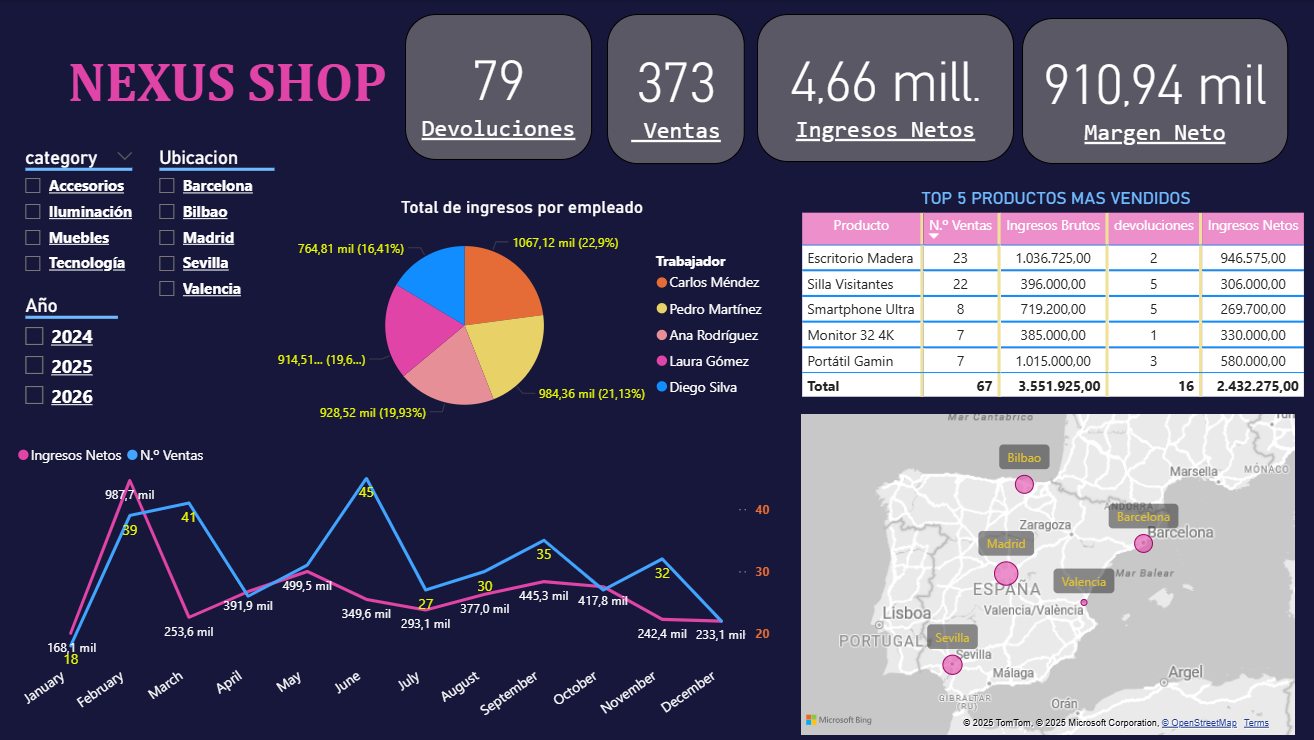

The page's visual inventory and layout, read from the dashboard file:
{"tool":"powerbi","page":{"name":"Página 1","canvas":[1280,720],"ordinal":0},"visuals":[{"type":"card","fields":{"Values":["Sum(Consulta1.ingresos_netos)"]},"box":[736.3,13.6,250,144],"z":0},{"type":"card","fields":{"Values":["Sum(Consulta1.margen_neto)"]},"box":[994,17.5,258.7,142],"z":1000},{"type":"lineChart","fields":{"Y2":["Sum(Consulta1.total_ventas)"],"Category":["Consulta1.mes","Consulta1.numero_mes"],"Y":["Sum(Consulta1.ingresos_netos)"]},"box":[11.7,422.1,743.1,297.6],"z":2000},{"type":"slicer","fields":{"Values":["TablaCalendario.Año"]},"box":[11.3,281,115.9,130.3],"z":3000},{"type":"card","fields":{"Values":["Sum(Consulta1.total_ventas)"]},"box":[590.4,13.6,134.2,145.9],"z":4000},{"type":"slicer","fields":{"Values":["Consulta1.category"]},"box":[11.3,137.4,130.3,143.6],"z":5000},{"type":"card","fields":{"Values":["Sum(Consulta1.total_devoluciones)"]},"box":[393.9,13.6,181.9,142],"z":6000},{"type":"pieChart","title":"Total de ingresos por empleado","fields":{"Category":["Consulta1.employee_name"],"Y":["Sum(Consulta1.ingresos_netos)"]},"box":[260.5,191.8,494.4,230.8],"z":7000},{"type":"slicer","fields":{"Values":["Consulta1.store_location"]},"box":[141.5,137.4,138.5,175.4],"z":8000},{"type":"map","fields":{"Category":["Consulta1.Ubicacion"],"Size":["Sum(Consulta1.ingresos_netos)"]},"box":[774.4,397.9,490.3,322.1],"z":9000},{"type":"tableEx","title":"TOP 5 PRODUCTOS MAS VENDIDOS","fields":{"Values":["Consulta1.product_name","Sum(Consulta1.total_ventas)","Sum(Consulta1.total_ingresos_brutos)","Sum(Consulta1.total_devoluciones)","Sum(Consulta1.ingresos_netos)"]},"box":[774.4,182.6,505.6,260.5],"z":10000},{"type":"textbox","box":[34.9,42.1,372.3,83.1],"z":11000}]}

Visuals, with their boxes in screenshot pixels (x1, y1, x2, y2), scaled from the page's 1280x720 canvas onto the 1314x740 screenshot:
card - Sum(Consulta1.ingresos_netos): left=756, top=14, right=1012, bottom=162
card - Sum(Consulta1.margen_neto): left=1020, top=18, right=1286, bottom=164
lineChart - Sum(Consulta1.total_ventas) x Consulta1.mes: left=12, top=434, right=775, bottom=739
slicer - TablaCalendario.Año: left=12, top=289, right=131, bottom=423
card - Sum(Consulta1.total_ventas): left=606, top=14, right=744, bottom=164
slicer - Consulta1.category: left=12, top=141, right=145, bottom=289
card - Sum(Consulta1.total_devoluciones): left=404, top=14, right=591, bottom=160
"Total de ingresos por empleado" pieChart: left=267, top=197, right=775, bottom=434
slicer - Consulta1.store_location: left=145, top=141, right=287, bottom=321
map - Consulta1.Ubicacion x Sum(Consulta1.ingresos_netos): left=795, top=409, right=1298, bottom=739
"TOP 5 PRODUCTOS MAS VENDIDOS" tableEx: left=795, top=188, right=1313, bottom=455
textbox: left=36, top=43, right=418, bottom=129
